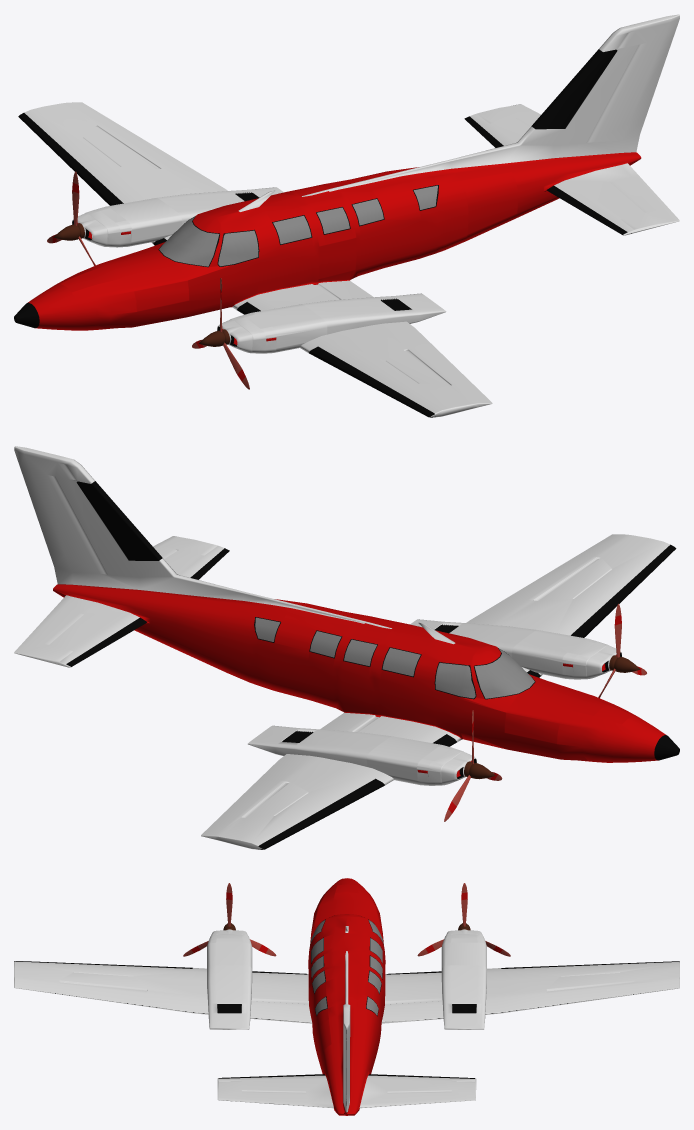
The model's file is cessna_calc_normals.obj.
The picture shows the model from 3 angles, top to bottom: view 1: azimuth 30°, elevation 25°; view 2: azimuth 150°, elevation 25°; view 3: azimuth 270°, elevation 25°; orthographic projection. The views are drawn at different scales.
Parts seen in each view (by area): view 1: fuselage, wings, engine, tail, fuslage2, deicing, rudder, glass, elevator, rflaps, access, flaps (+8 smaller); view 2: fuselage, wings, engine, fuslage2, tail, deicing, glass, rudder, elevator, rflaps, access, flaps2 (+3 smaller); view 3: wings, fuselage, engine, rflaps, elevator, flaps2, flaps, glass, deicing, access, rudder, vents2 (+5 smaller).
Part boxes in pixels (x1,y1,x2,y2): fuselage: [27, 152, 641, 321]; wings: [24, 102, 492, 417]; engine: [77, 187, 446, 353]; tail: [302, 14, 679, 196]; fuslage2: [35, 159, 640, 330]; deicing: [18, 49, 627, 417]; rudder: [586, 18, 679, 142]; glass: [159, 185, 437, 266]; elevator: [465, 114, 679, 235]; rflaps: [476, 104, 679, 230]; access: [107, 198, 326, 348]; flaps: [319, 280, 472, 385]; fuselage: [53, 584, 665, 753]; wings: [201, 534, 670, 849]; engine: [248, 619, 616, 785]; fuslage2: [53, 591, 658, 762]; tail: [14, 446, 391, 628]; deicing: [66, 481, 676, 849]; glass: [255, 617, 534, 698]; rudder: [14, 450, 107, 574]; elevator: [14, 546, 229, 667]; rflaps: [14, 536, 218, 662]; access: [367, 630, 586, 780]; flaps2: [221, 712, 374, 817]; wings: [14, 961, 679, 1014]; fuselage: [308, 878, 385, 1115]; engine: [207, 930, 486, 1029]; rflaps: [217, 1080, 476, 1108]; elevator: [217, 1075, 476, 1106]; flaps2: [381, 981, 634, 1023]; flaps: [59, 981, 312, 1023]; glass: [310, 920, 383, 1015]; deicing: [14, 961, 679, 1078]; access: [207, 942, 486, 968]; rudder: [343, 1015, 350, 1100]; vents2: [217, 1004, 476, 1013].
Bounding box in the file's own units: 41.2 × 10.24 × 44.3.
